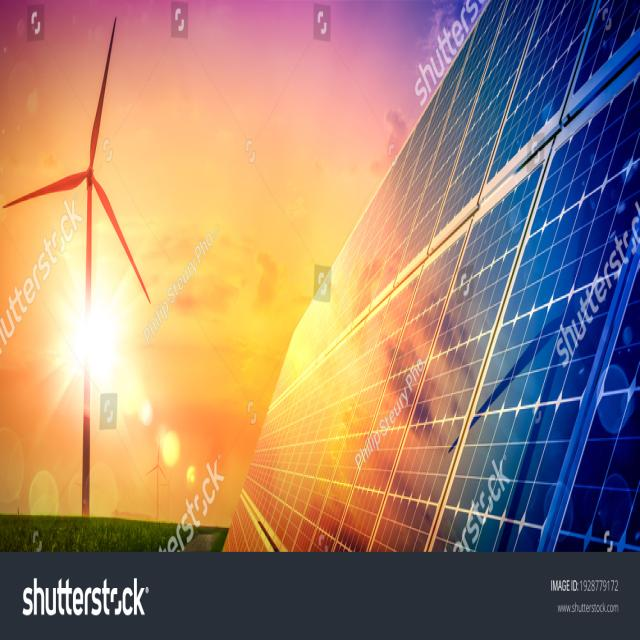clean-solar-panel: (229, 0, 640, 553)
